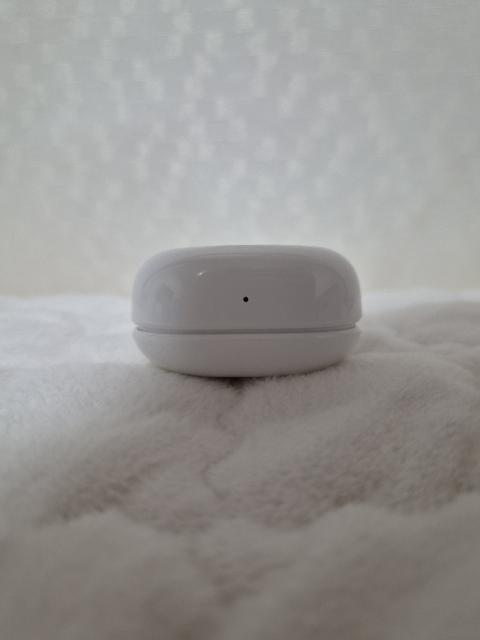earphone_case: (131, 244, 362, 378)
